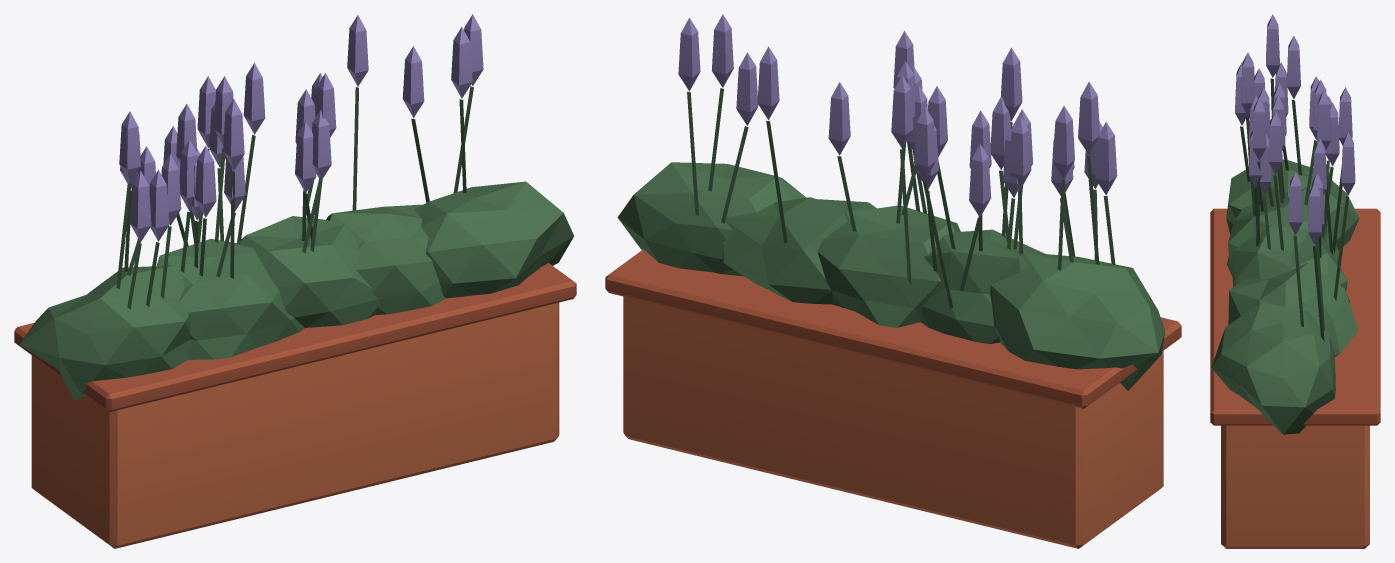
The model's file is planter_box.glb.
The picture shows the model from 3 angles, left to right: view 1: azimuth 30°, elevation 25°; view 2: azimuth 150°, elevation 25°; view 3: azimuth 270°, elevation 25°; orthographic projection. The views are drawn at different scales.
Parts seen in each view (by area): view 1: planter_box.001; view 2: planter_box.001; view 3: planter_box.001.
Boxes of the visible parts, x1=… form: planter_box.001: x1=14, y1=14, x2=576, y2=548; planter_box.001: x1=605, y1=14, x2=1181, y2=548; planter_box.001: x1=1210, y1=14, x2=1380, y2=548.
Size of the model in its own units: 1.54 by 1.13 by 0.48.
Materials: 1 (1 with a texture image).
